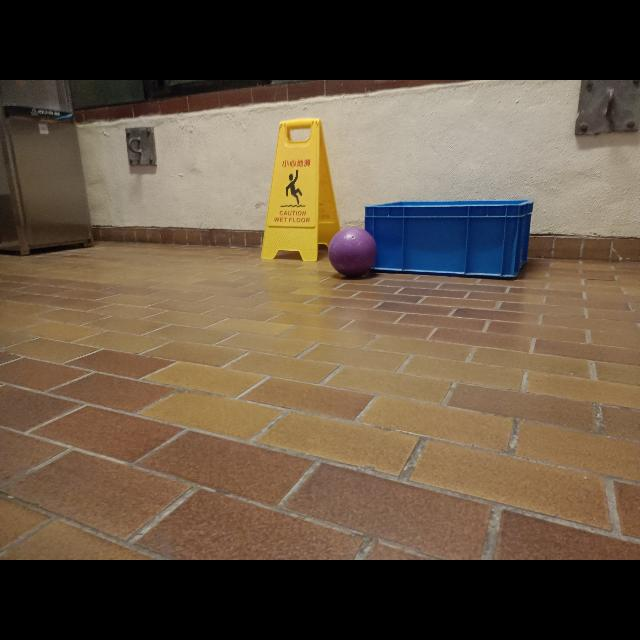P: (328, 226, 376, 278)
